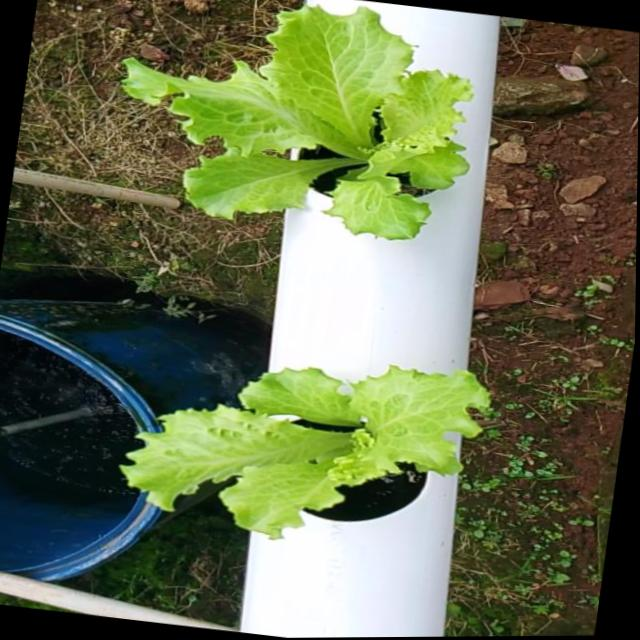Baby: (121, 11, 474, 247), (112, 378, 486, 552)
